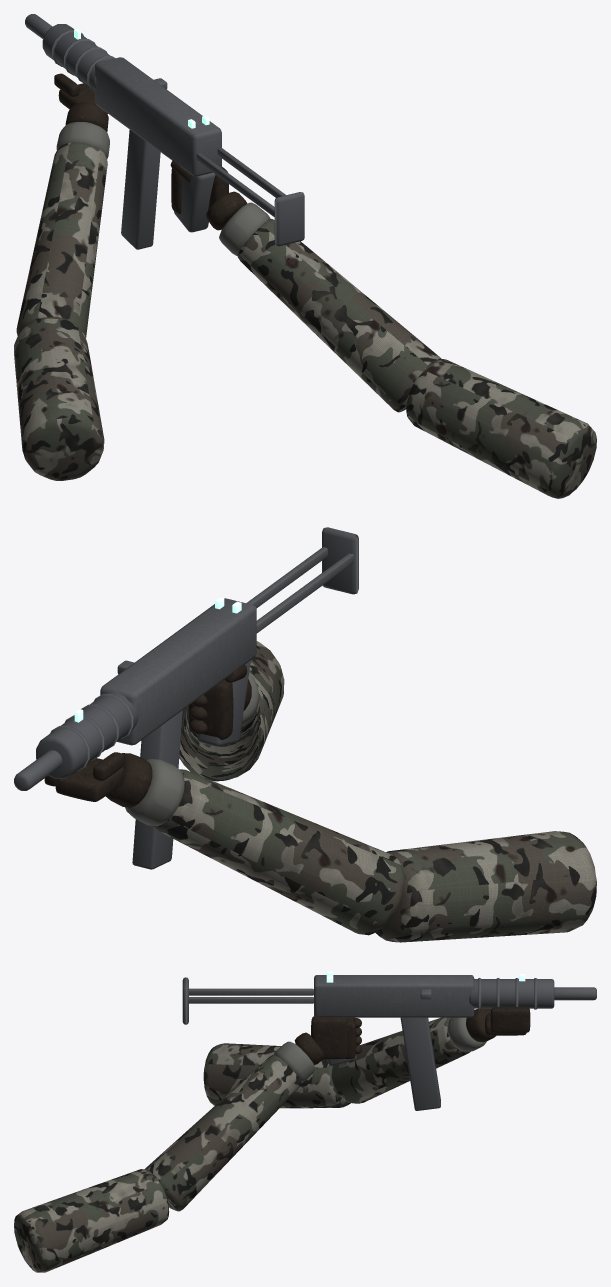
Rendered from vm_smg.glb.
The picture shows the model from 3 angles, top to bottom: view 1: azimuth 30°, elevation 25°; view 2: azimuth 150°, elevation 25°; view 3: azimuth 270°, elevation 25°; orthographic projection. The views are drawn at different scales.
Parts seen in each view (by area): view 1: UpperArmR, ForearmR, UpperArmL, ForearmL, Receiver, Mag, Shroud, Grip, ButtPlate, CuffR, CuffL, WristR (+3 smaller); view 2: UpperArmL, ForearmL, Receiver, Shroud, ForearmR, Mag, CuffL, UpperArmR, ButtPlate, WristL, FingersR, PalmL (+5 smaller); view 3: UpperArmR, ForearmR, Receiver, ForearmL, UpperArmL, Mag, Shroud, PalmR, FingersL, StockRod, StockRod.001, CuffR (+4 smaller).
Part boxes in pixels (x1=…): UpperArmR: x1=406, y1=358, x2=596, y2=498; ForearmR: x1=237, y1=219, x2=440, y2=412; UpperArmL: x1=14, y1=316, x2=104, y2=480; ForearmL: x1=16, y1=142, x2=107, y2=337; Receiver: x1=95, y1=57, x2=221, y2=176; Mag: x1=121, y1=130, x2=160, y2=249; Shroud: x1=42, y1=24, x2=113, y2=90; Grip: x1=174, y1=172, x2=215, y2=232; ButtPlate: x1=274, y1=192, x2=304, y2=246; CuffR: x1=219, y1=202, x2=270, y2=255; CuffL: x1=56, y1=121, x2=109, y2=159; WristR: x1=206, y1=191, x2=247, y2=230; UpperArmL: x1=375, y1=831, x2=596, y2=942; ForearmL: x1=153, y1=769, x2=405, y2=935; Receiver: x1=100, y1=598, x2=256, y2=745; Shroud: x1=36, y1=692, x2=138, y2=778; ForearmR: x1=179, y1=700, x2=260, y2=781; Mag: x1=132, y1=710, x2=182, y2=869; CuffL: x1=125, y1=759, x2=184, y2=826; UpperArmR: x1=182, y1=641, x2=284, y2=780; ButtPlate: x1=322, y1=527, x2=358, y2=594; WristL: x1=105, y1=753, x2=152, y2=807; FingersR: x1=188, y1=679, x2=233, y2=739; PalmL: x1=55, y1=758, x2=123, y2=801; UpperArmR: x1=14, y1=1169, x2=169, y2=1272; ForearmR: x1=145, y1=1055, x2=301, y2=1211; Receiver: x1=314, y1=975, x2=474, y2=1017; ForearmL: x1=331, y1=1017, x2=470, y2=1103; UpperArmL: x1=203, y1=1043, x2=350, y2=1108; Mag: x1=400, y1=1017, x2=440, y2=1110; Shroud: x1=469, y1=979, x2=554, y2=1008; PalmR: x1=311, y1=1016, x2=347, y2=1059; FingersL: x1=490, y1=1007, x2=530, y2=1032; StockRod: x1=189, y1=988, x2=313, y2=995; StockRod.001: x1=188, y1=997, x2=313, y2=1003; CuffR: x1=273, y1=1041, x2=314, y2=1083.
Bounding box in the file's own units: 0.7741 × 0.4671 × 1.09.
Materials: 6 (3 with a texture image).
